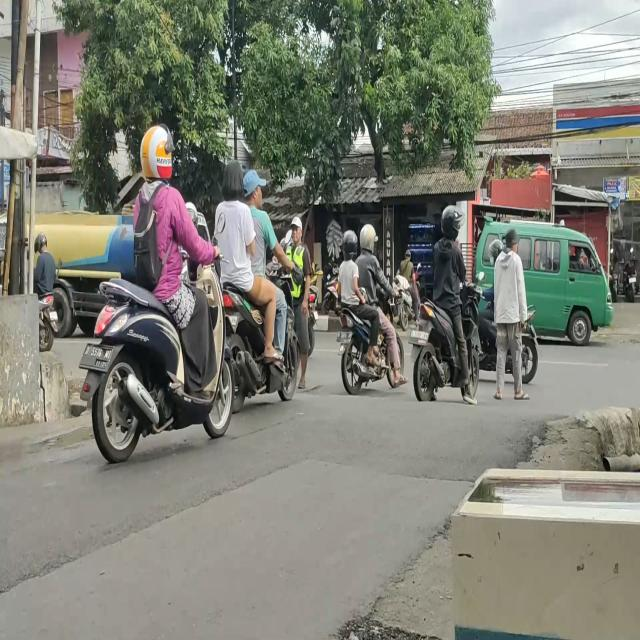helmet: (138, 126, 174, 181), (359, 226, 379, 255), (444, 204, 462, 236), (343, 226, 357, 255), (489, 241, 503, 264), (34, 231, 46, 255)
no-helmet: (224, 160, 247, 198), (246, 169, 262, 208), (404, 246, 412, 261)
